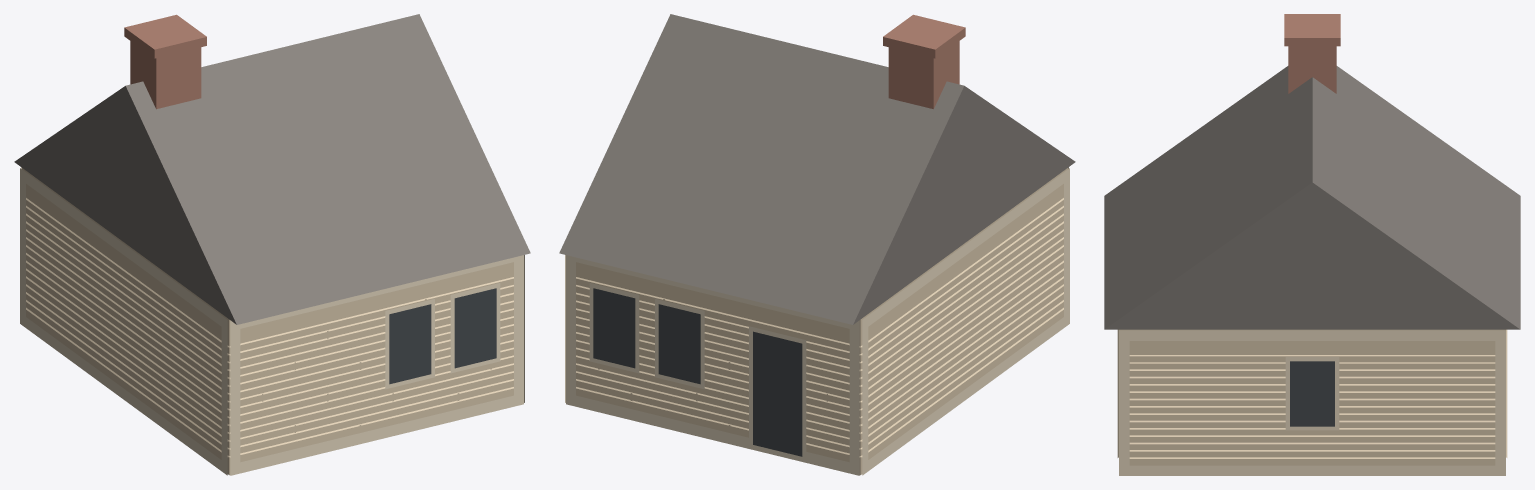
The model's file is recon_1835_north_d3_002__inferred_1835.glb.
3 views of the same model, side by side, from view 1: azimuth 30°, elevation 25°; view 2: azimuth 150°, elevation 25°; view 3: azimuth 270°, elevation 25° (orthographic). The views are drawn at different scales.
Parts seen in each view (by area): view 1: recon_1835_north_d3_002__inferred_1835; view 2: recon_1835_north_d3_002__inferred_1835; view 3: recon_1835_north_d3_002__inferred_1835.
Boxes of the visible parts, x1,y1,x2,y2 form: recon_1835_north_d3_002__inferred_1835: (14, 14, 530, 475); recon_1835_north_d3_002__inferred_1835: (559, 14, 1075, 475); recon_1835_north_d3_002__inferred_1835: (1104, 14, 1520, 475).
Bounding box in the file's own units: 5.57 × 6.37 × 7.21.
